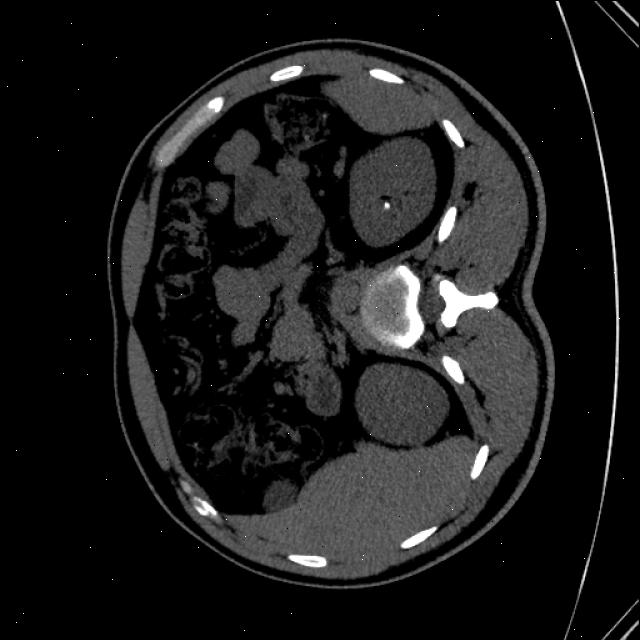kidneystone: (380, 196, 391, 211)
